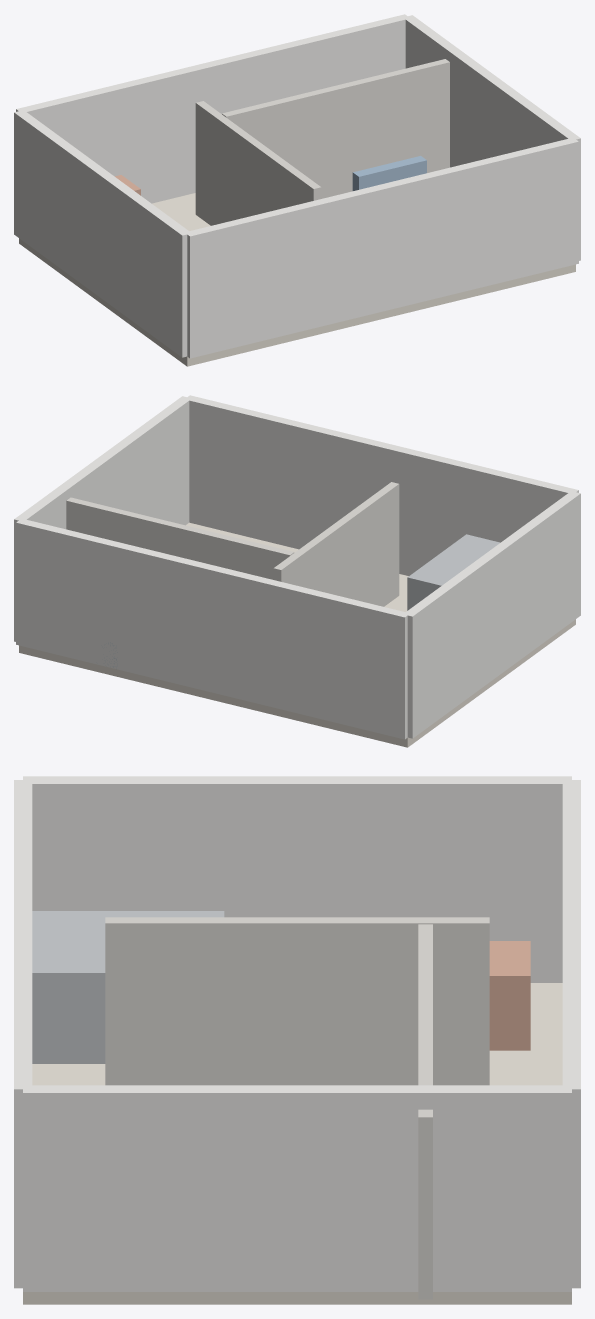
Rendered from ground-floor-meshopt.glb.
The picture shows the model from 3 angles, top to bottom: view 1: azimuth 30°, elevation 25°; view 2: azimuth 150°, elevation 25°; view 3: azimuth 270°, elevation 25°; orthographic projection. The views are drawn at different scales.
Parts seen in each view (by area): view 1: Wall_south, Wall_north, Wall_west, Partition_bath, Wall_east, Partition_hall, Floor, Bed; view 2: Wall_north, Wall_south, Wall_west, Wall_east, Partition_hall, Partition_bath, Floor, Stairs; view 3: Wall_east, Wall_west, Partition_hall, Floor, Stairs, Wall_south, Wall_north, Partition_bath, Stove.
Part boxes in pixels (x1,y1,x2,y2): Wall_south: (185,137,578,358); Wall_north: (16,14,409,203); Wall_west: (14,110,191,357); Partition_bath: (222,59,449,198); Wall_east: (405,15,580,260); Partition_hall: (195,101,321,225); Floor: (19,193,575,366); Bed: (352,156,426,190); Wall_north: (16,518,409,739); Wall_south: (185,395,578,575); Wall_west: (404,491,580,738); Wall_east: (14,396,189,641); Partition_hall: (273,482,399,606); Partition_bath: (66,497,294,579); Floor: (19,522,575,747); Stairs: (407,534,499,610); Wall_east: (23,1085,571,1291); Wall_west: (23,776,571,982); Partition_hall: (105,917,489,1085); Floor: (23,983,571,1304); Stairs: (32,911,224,1063); Wall_south: (14,780,32,1288); Wall_north: (562,780,580,1288); Partition_bath: (418,924,432,1299); Stove: (489,941,530,1050).
Bounding box in the file's own units: 8.4 × 2.6 × 6.2.
